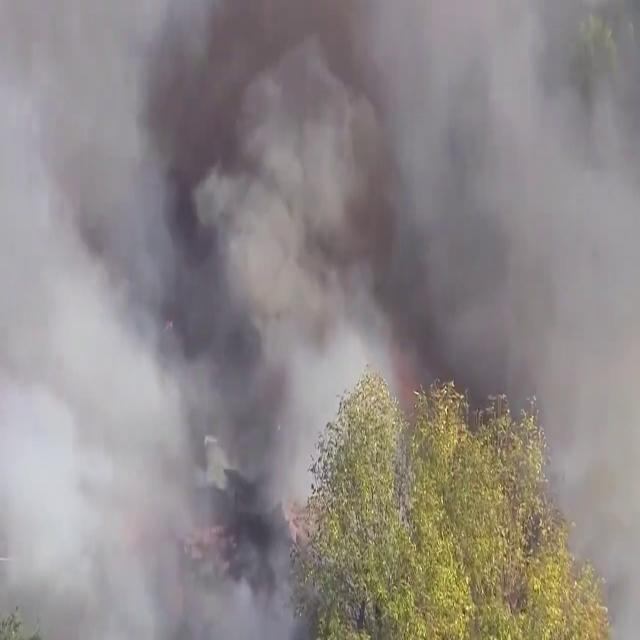Smoke: (1, 0, 638, 633)
